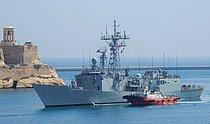MIL_Ship: (31, 55, 205, 106)
